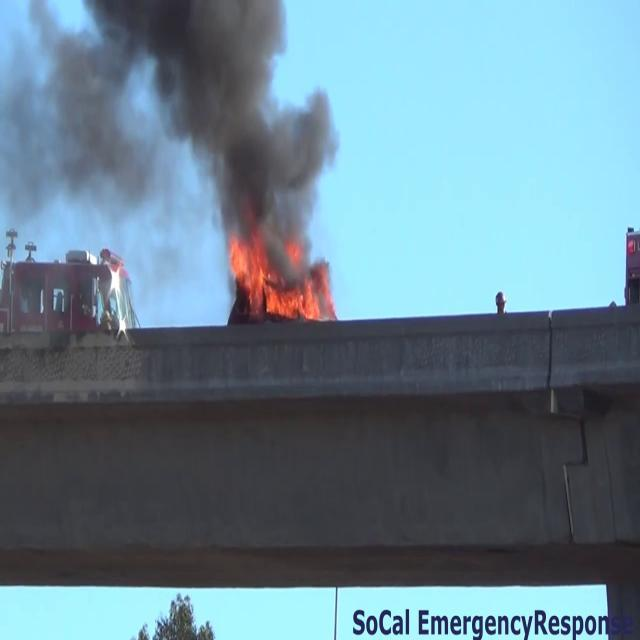Fire: (224, 234, 328, 326)
Smoke: (1, 0, 343, 242), (121, 0, 343, 248)
